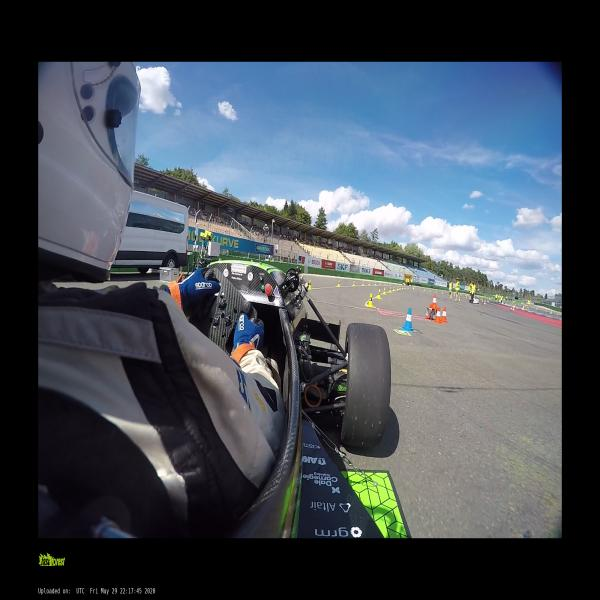blue_cone: (402, 307, 414, 331)
orange_cone: (436, 306, 442, 323), (432, 293, 438, 308), (442, 306, 447, 323)
yellow_cone: (367, 293, 374, 307), (308, 278, 312, 289), (378, 289, 381, 299), (388, 286, 392, 293), (382, 288, 386, 294), (388, 287, 394, 291), (398, 285, 402, 290), (337, 280, 340, 286), (395, 286, 399, 290), (392, 286, 395, 291), (361, 281, 364, 286), (352, 281, 355, 286), (449, 293, 452, 297), (398, 286, 402, 289), (367, 282, 370, 285), (458, 296, 460, 300), (423, 288, 425, 291)
